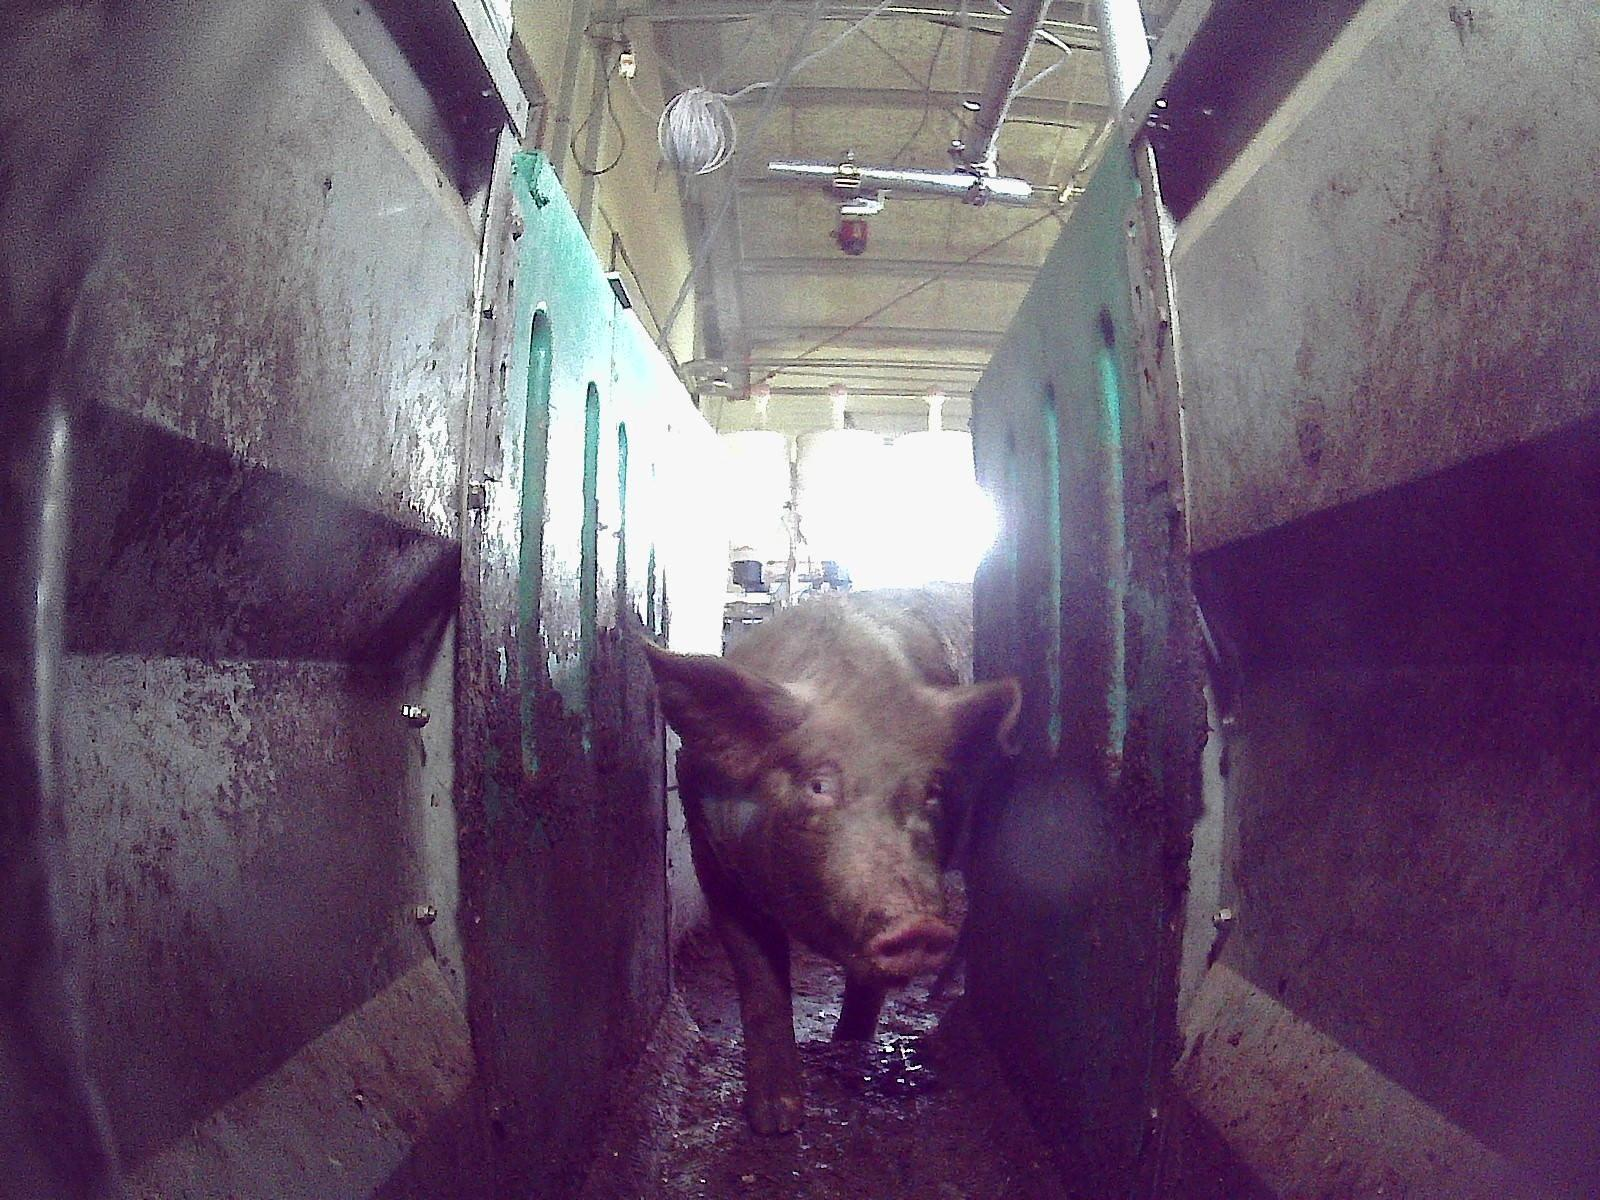Face: (758, 671, 958, 990)
